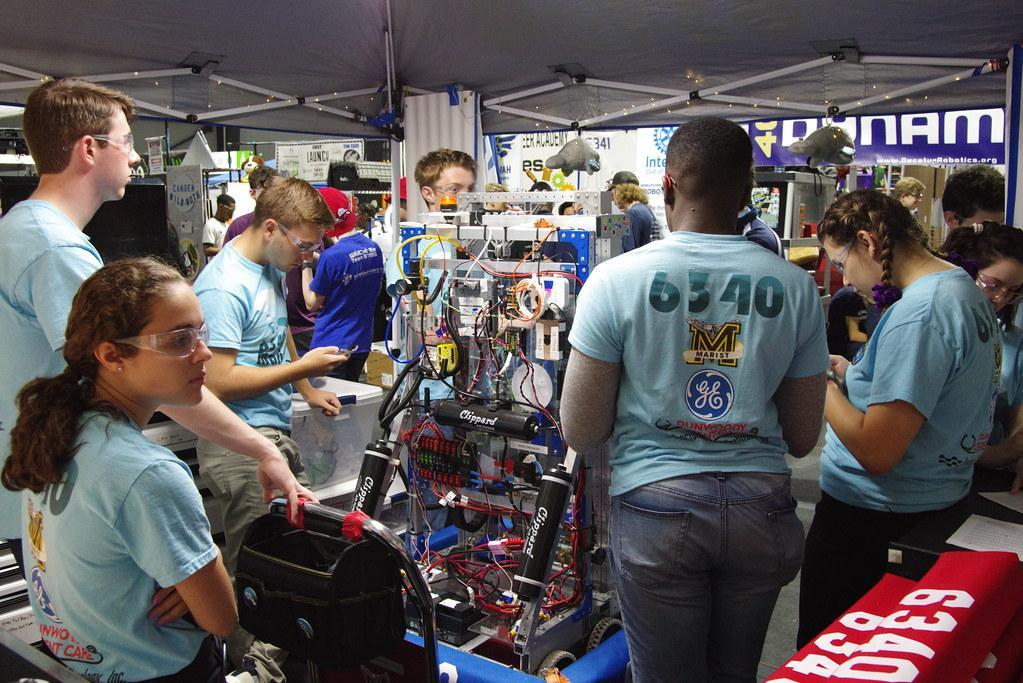robot: (291, 203, 736, 683)
